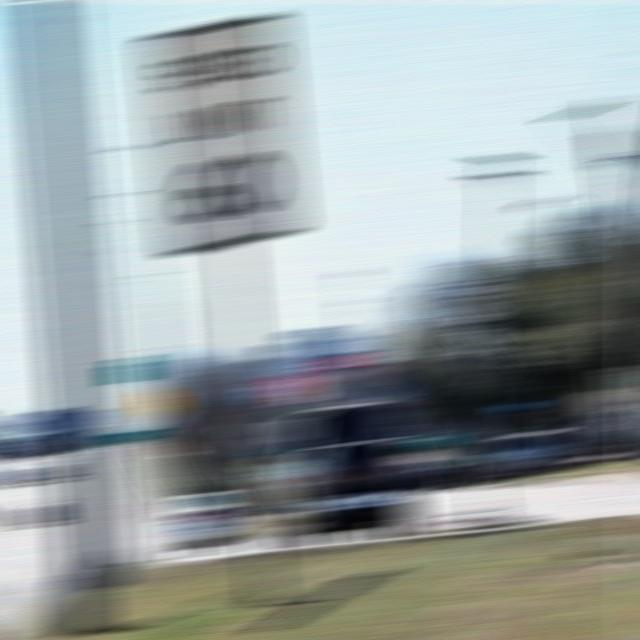speedLimit60: (143, 7, 304, 263)
